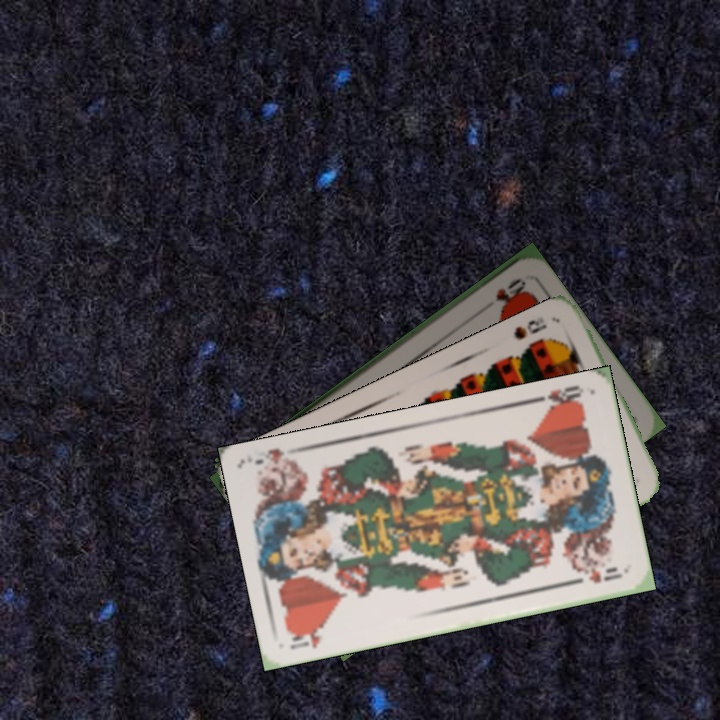HO: (529, 381, 587, 413), (284, 623, 327, 653), (491, 273, 529, 304)
S8: (510, 315, 550, 342)
